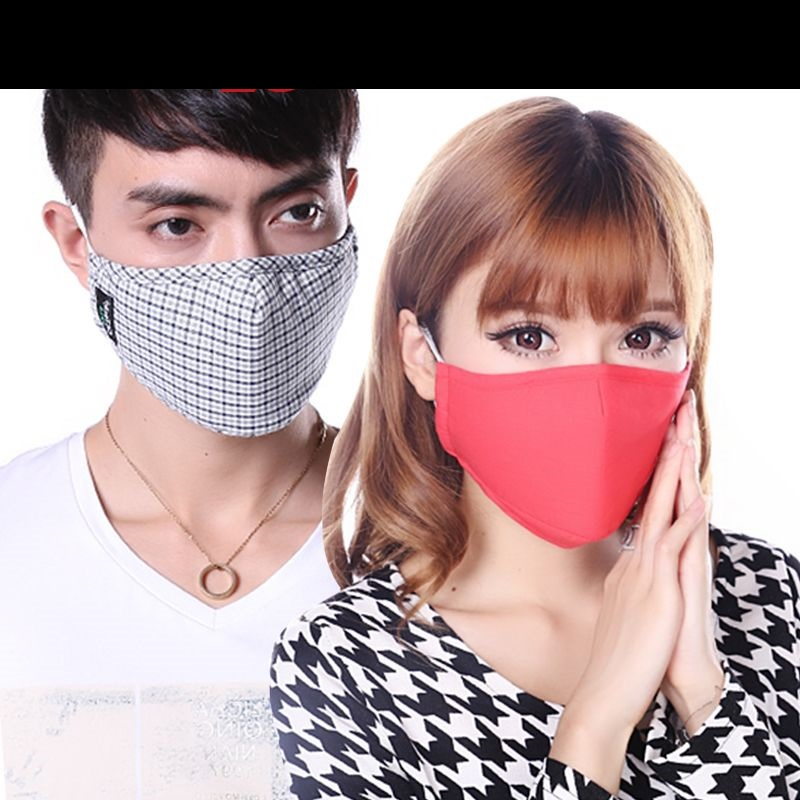face_mask: (438, 192, 697, 544), (89, 87, 354, 427)
